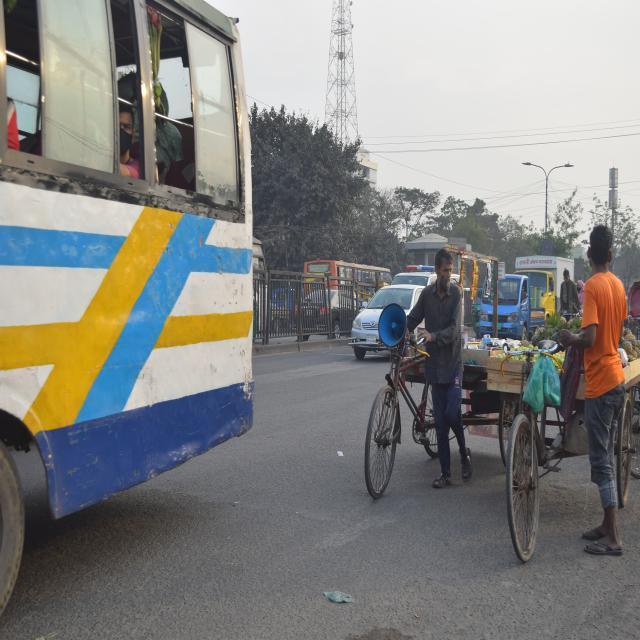bus: (0, 0, 255, 500), (299, 252, 382, 318)
car: (356, 277, 430, 360), (298, 285, 357, 340)
pickup-van: (522, 250, 575, 332), (480, 268, 530, 336)
